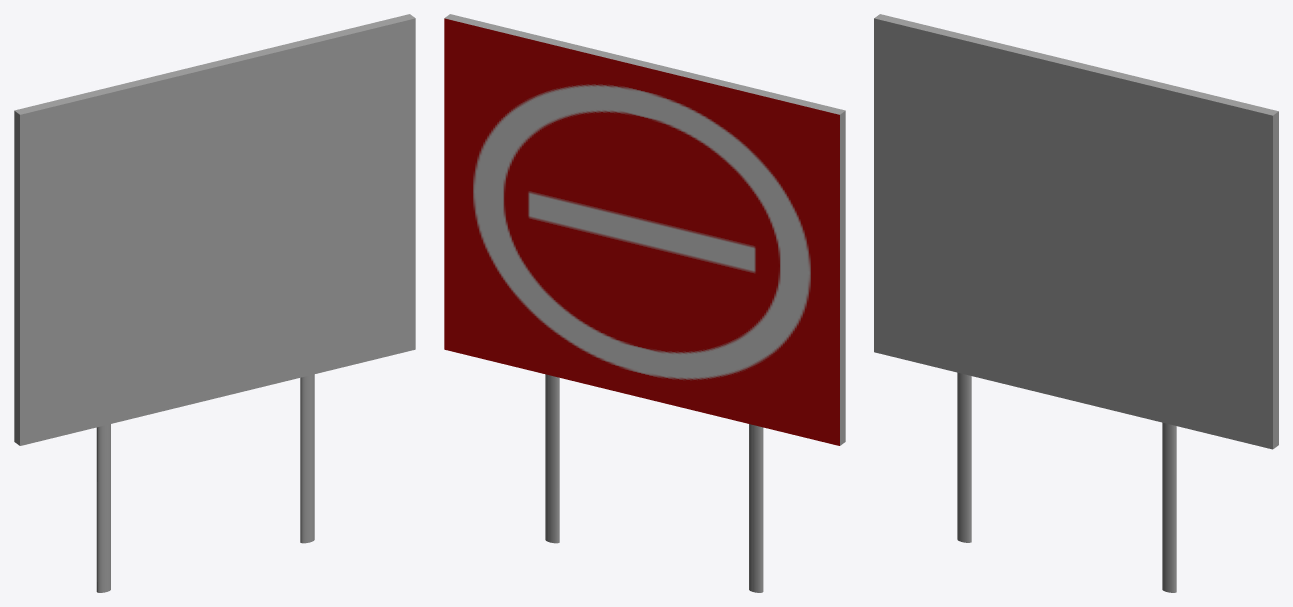
The model's file is LSZF-NoEntrySign.gltf.
3 views of the same model, side by side, from view 1: azimuth 30°, elevation 25°; view 2: azimuth 150°, elevation 25°; view 3: azimuth 330°, elevation 25° (orthographic).
Visible parts, largest first — view 1: Box001, Cylinder002, Cylinder001; view 2: Box001, Cylinder002, Cylinder001; view 3: Box001, Cylinder001, Cylinder002.
Boxes of the visible parts, x1,y1,x2,y2 form: Box001: (14,14,415,445); Cylinder002: (300,374,314,543); Cylinder001: (96,424,110,592); Box001: (444,14,845,445); Cylinder002: (545,374,559,543); Cylinder001: (749,424,763,592); Box001: (874,14,1278,449); Cylinder001: (957,372,971,542); Cylinder002: (1162,422,1176,592).
Bounding box in the file's own units: 0.5 × 0.6028 × 0.013.
